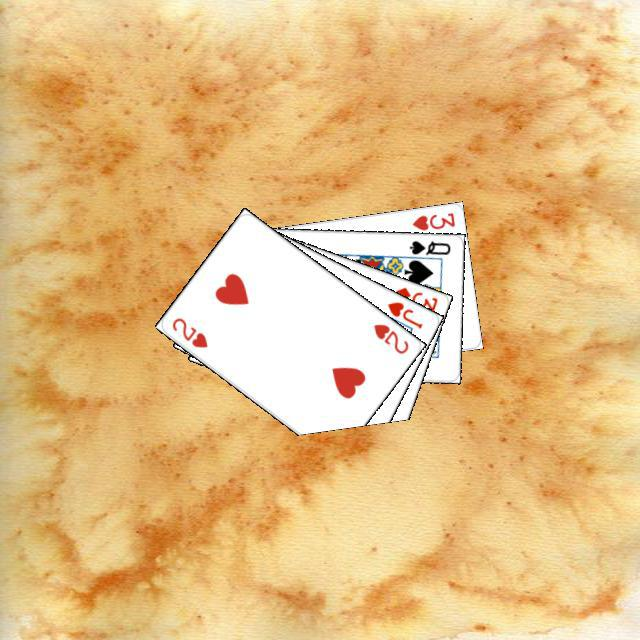2h: (167, 312, 209, 350), (369, 319, 410, 356)
3d: (391, 282, 439, 314)
3h: (407, 208, 457, 232)
Jh: (382, 297, 424, 330)
Qs: (405, 236, 452, 257)
